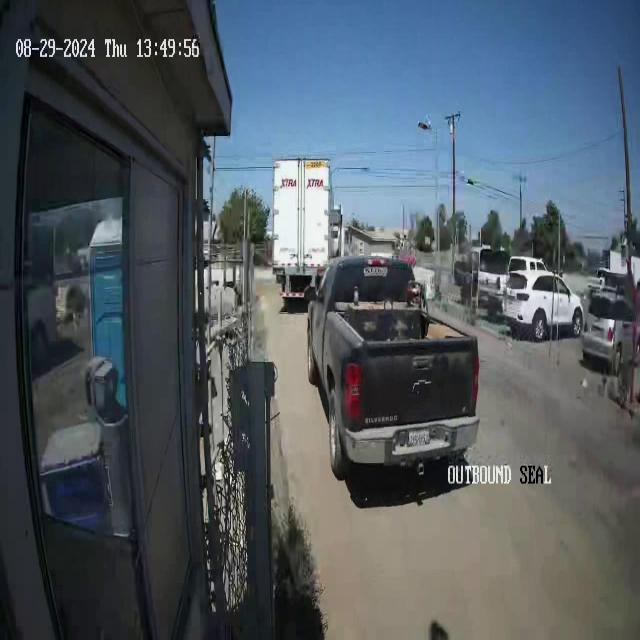CONTAINER: (273, 158, 332, 278)
